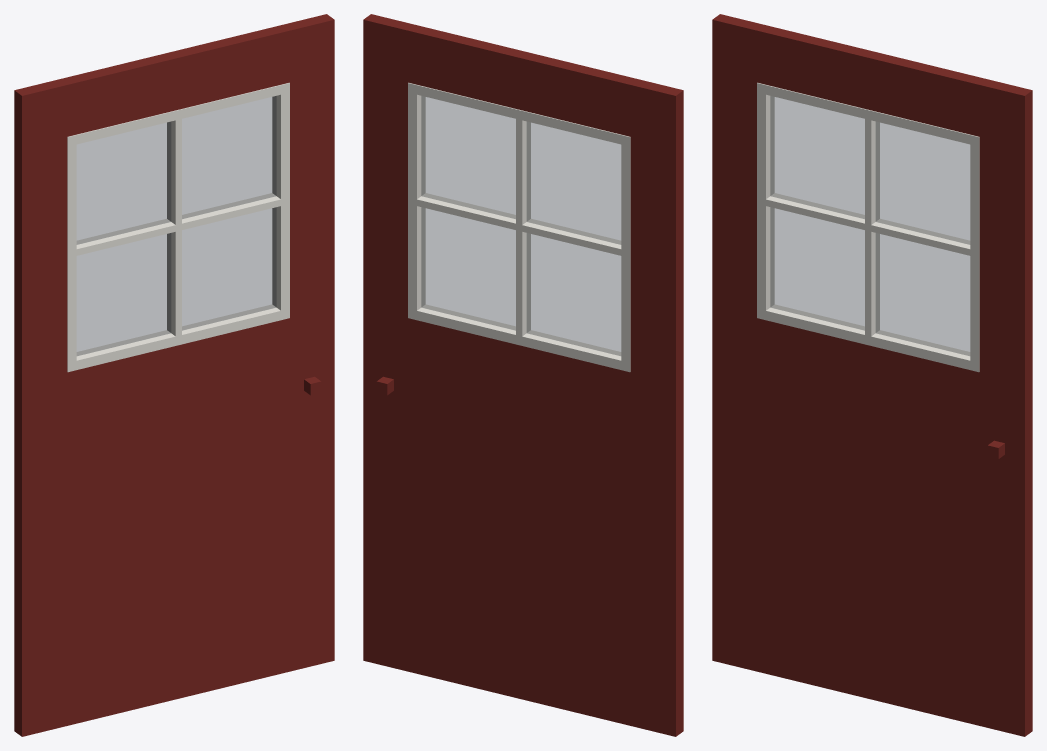
File: door-front.glb
The picture shows the model from 3 angles, left to right: view 1: azimuth 30°, elevation 25°; view 2: azimuth 150°, elevation 25°; view 3: azimuth 330°, elevation 25°; orthographic projection.
Parts seen in each view (by area): view 1: door-front, object 2; view 2: door-front, object 2; view 3: door-front, object 2.
Boxes of the visible parts, x1,y1,x2,y2 form: door-front: (14,14,334,736); object 2: (67,82,289,372); door-front: (363,14,683,736); object 2: (408,82,630,372); door-front: (712,14,1032,736); object 2: (757,82,979,372).
Bounding box in the file's own units: 3.46 × 6.79 × 0.4.
